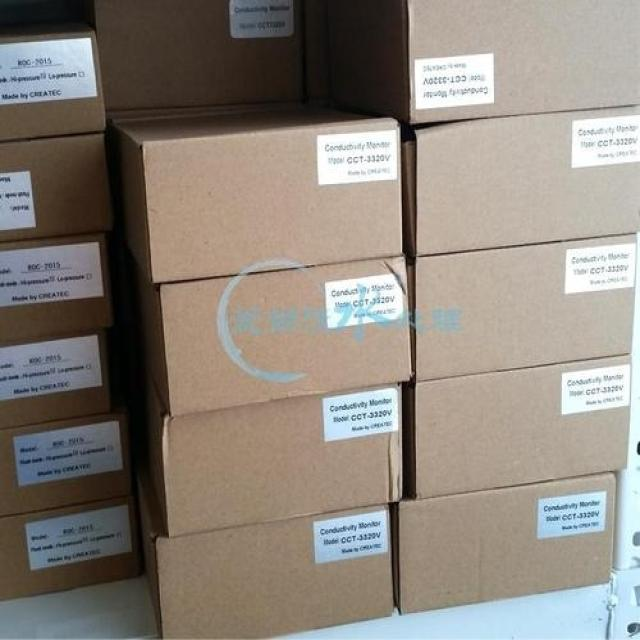box: (109, 103, 400, 281), (117, 241, 408, 413), (130, 464, 396, 638), (142, 380, 402, 539), (320, 1, 639, 125), (401, 107, 639, 256), (409, 235, 638, 382), (396, 472, 616, 614), (410, 356, 630, 497), (92, 2, 309, 121), (0, 341, 133, 517), (0, 496, 140, 602), (0, 236, 116, 348), (0, 134, 115, 242), (0, 31, 106, 142), (0, 333, 113, 429)
